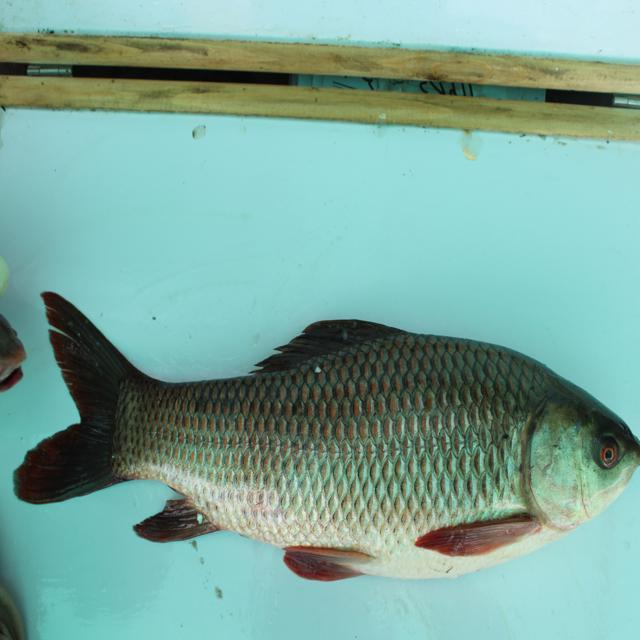Rohu: (18, 279, 640, 588)
